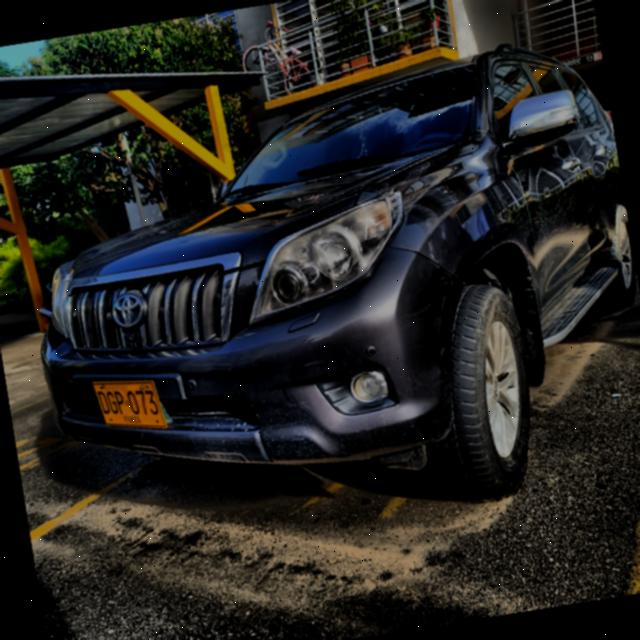0: (125, 390, 142, 415)
3: (144, 389, 161, 416)
7: (134, 390, 149, 415)
D: (96, 390, 112, 415)
G: (105, 390, 120, 414)
P: (113, 389, 128, 415)
